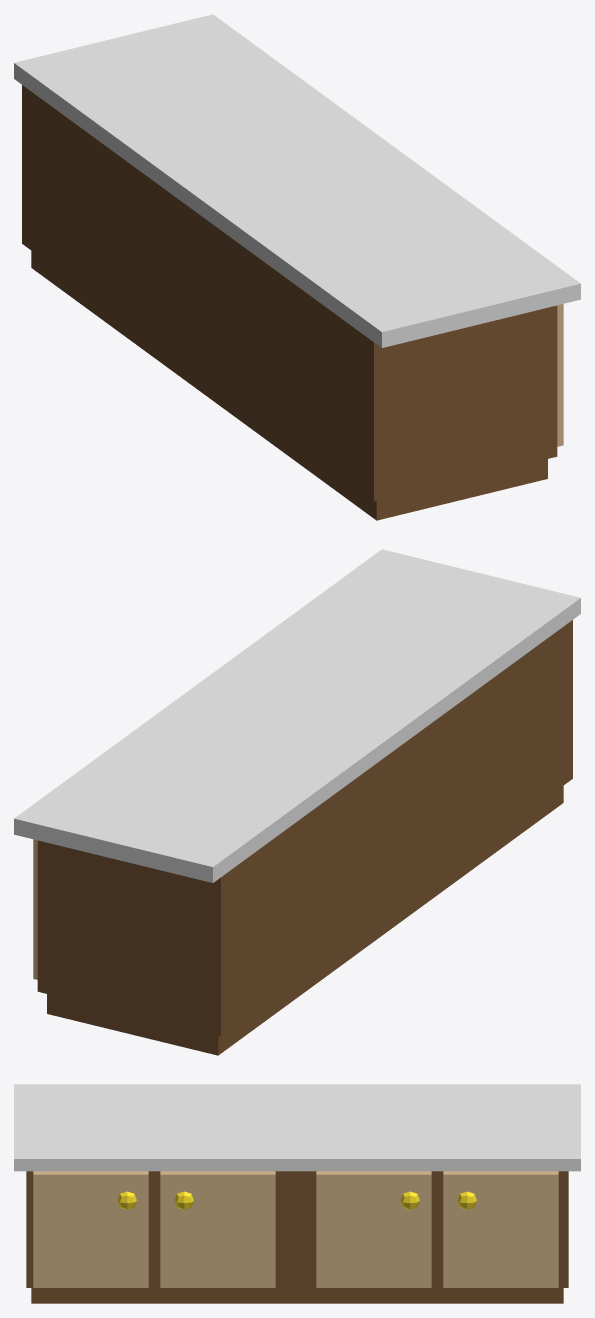
File: Item401Mod2.fbx
3 renders of one model, top to bottom at view 1: azimuth 30°, elevation 25°; view 2: azimuth 150°, elevation 25°; view 3: azimuth 270°, elevation 25°, orthographic. The views are drawn at different scales.
Visible parts, largest first — view 1: Item_401_mod2; view 2: Item_401_mod2; view 3: Item_401_mod2.
Part boxes in pixels (bbox=[...]): Item_401_mod2: bbox=[14, 14, 580, 520]; Item_401_mod2: bbox=[14, 549, 580, 1055]; Item_401_mod2: bbox=[14, 1084, 580, 1303].
Size of the model in its own units: 63.44 by 57.36 by 193.
